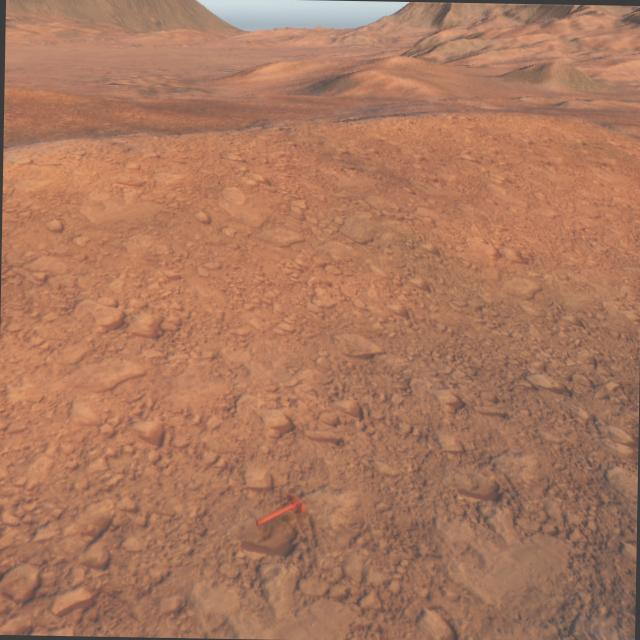newhammer: (254, 493, 304, 527)
